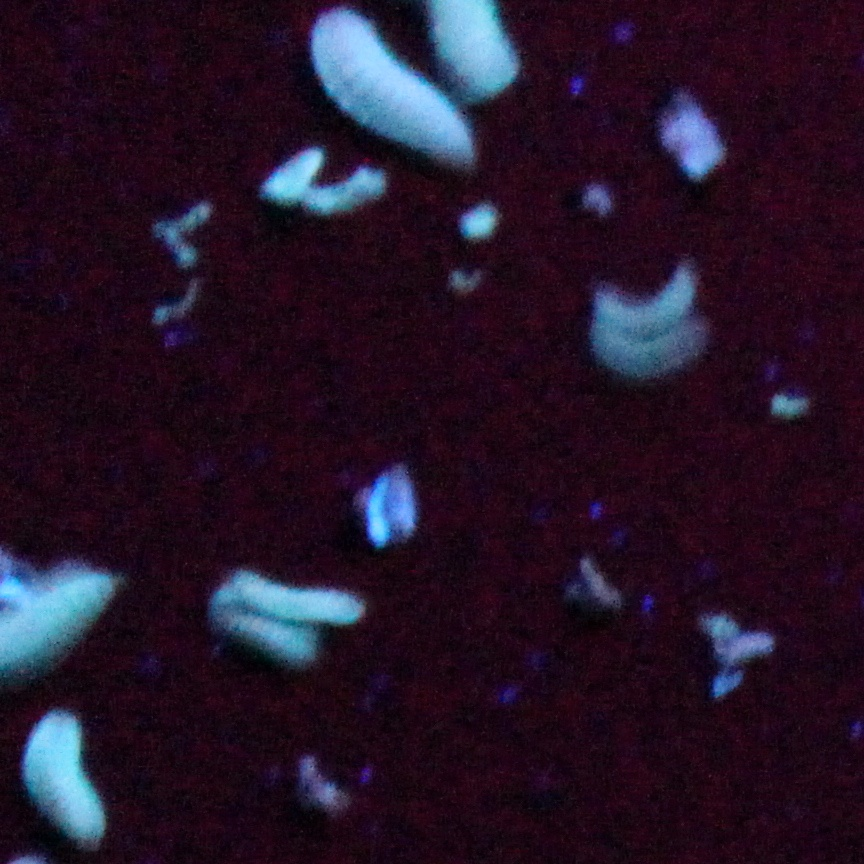larve: (314, 12, 475, 160), (25, 714, 106, 837), (589, 322, 708, 376), (591, 276, 693, 339), (210, 599, 314, 660), (233, 572, 364, 620)
